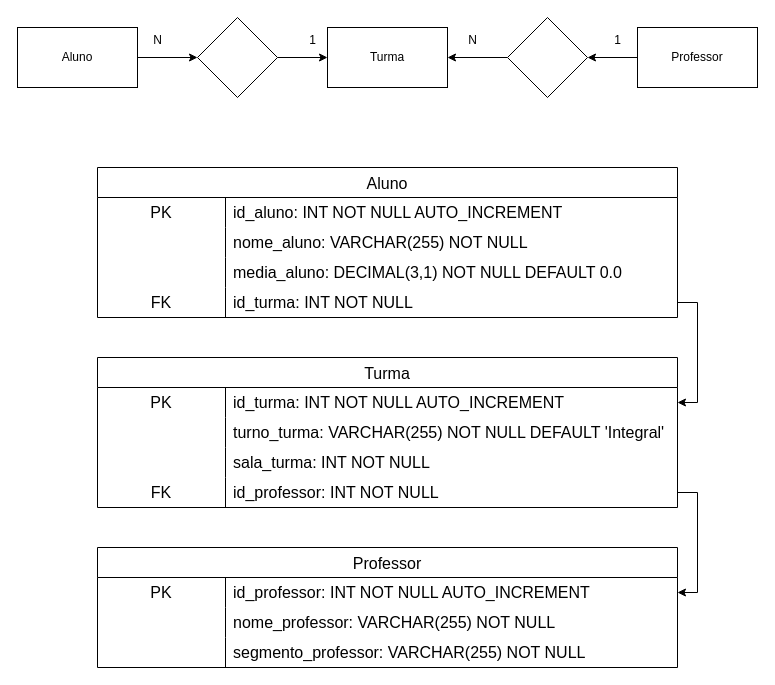
Image size: 775x685. Some labels were removed from this diagram. The box of each missing label's shape, as (x1, y1, x2, y2) in pixels:
Faz parte: (196, 16, 278, 98)
Ministrada por: (506, 16, 588, 98)
